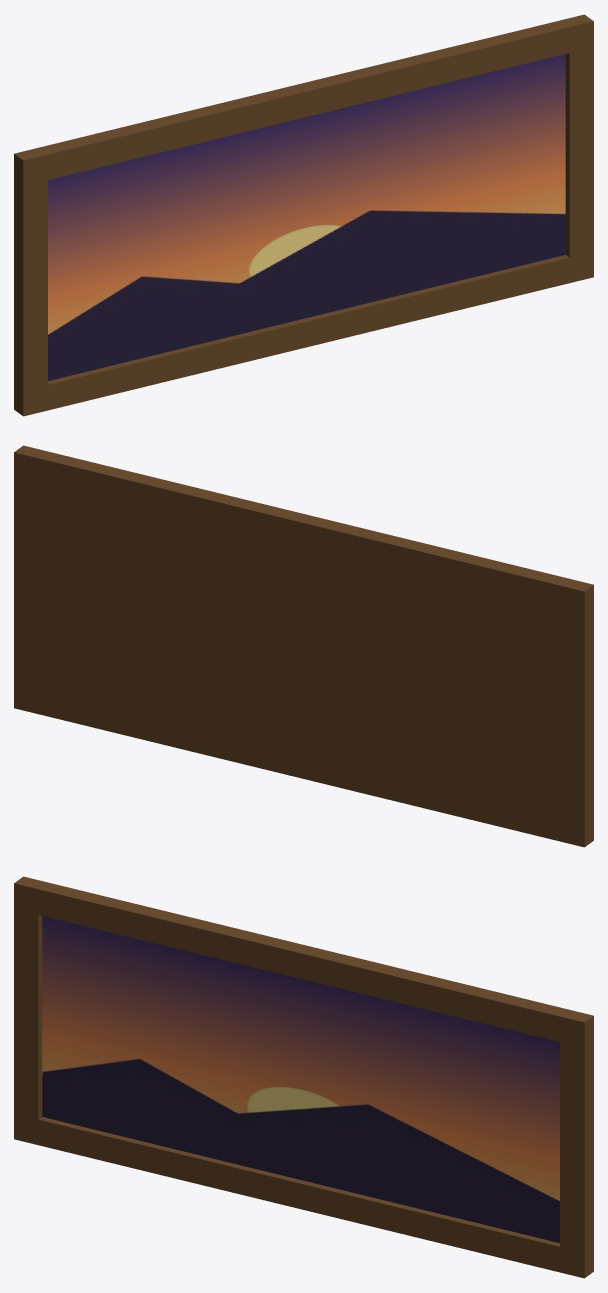
Rendered from painting_wide.glb.
3 views of the same model, one above another, from view 1: azimuth 30°, elevation 25°; view 2: azimuth 150°, elevation 25°; view 3: azimuth 330°, elevation 25° (orthographic).
Parts seen in each view (by area): view 1: painting; view 2: painting; view 3: painting.
Boxes of the visible parts, x1=… form: painting: x1=14, y1=14, x2=593, y2=416; painting: x1=14, y1=445, x2=593, y2=847; painting: x1=14, y1=876, x2=593, y2=1278.
Size of the model in its own units: 1.4 by 0.6 by 0.04.
Materials: 2 (1 with a texture image).
